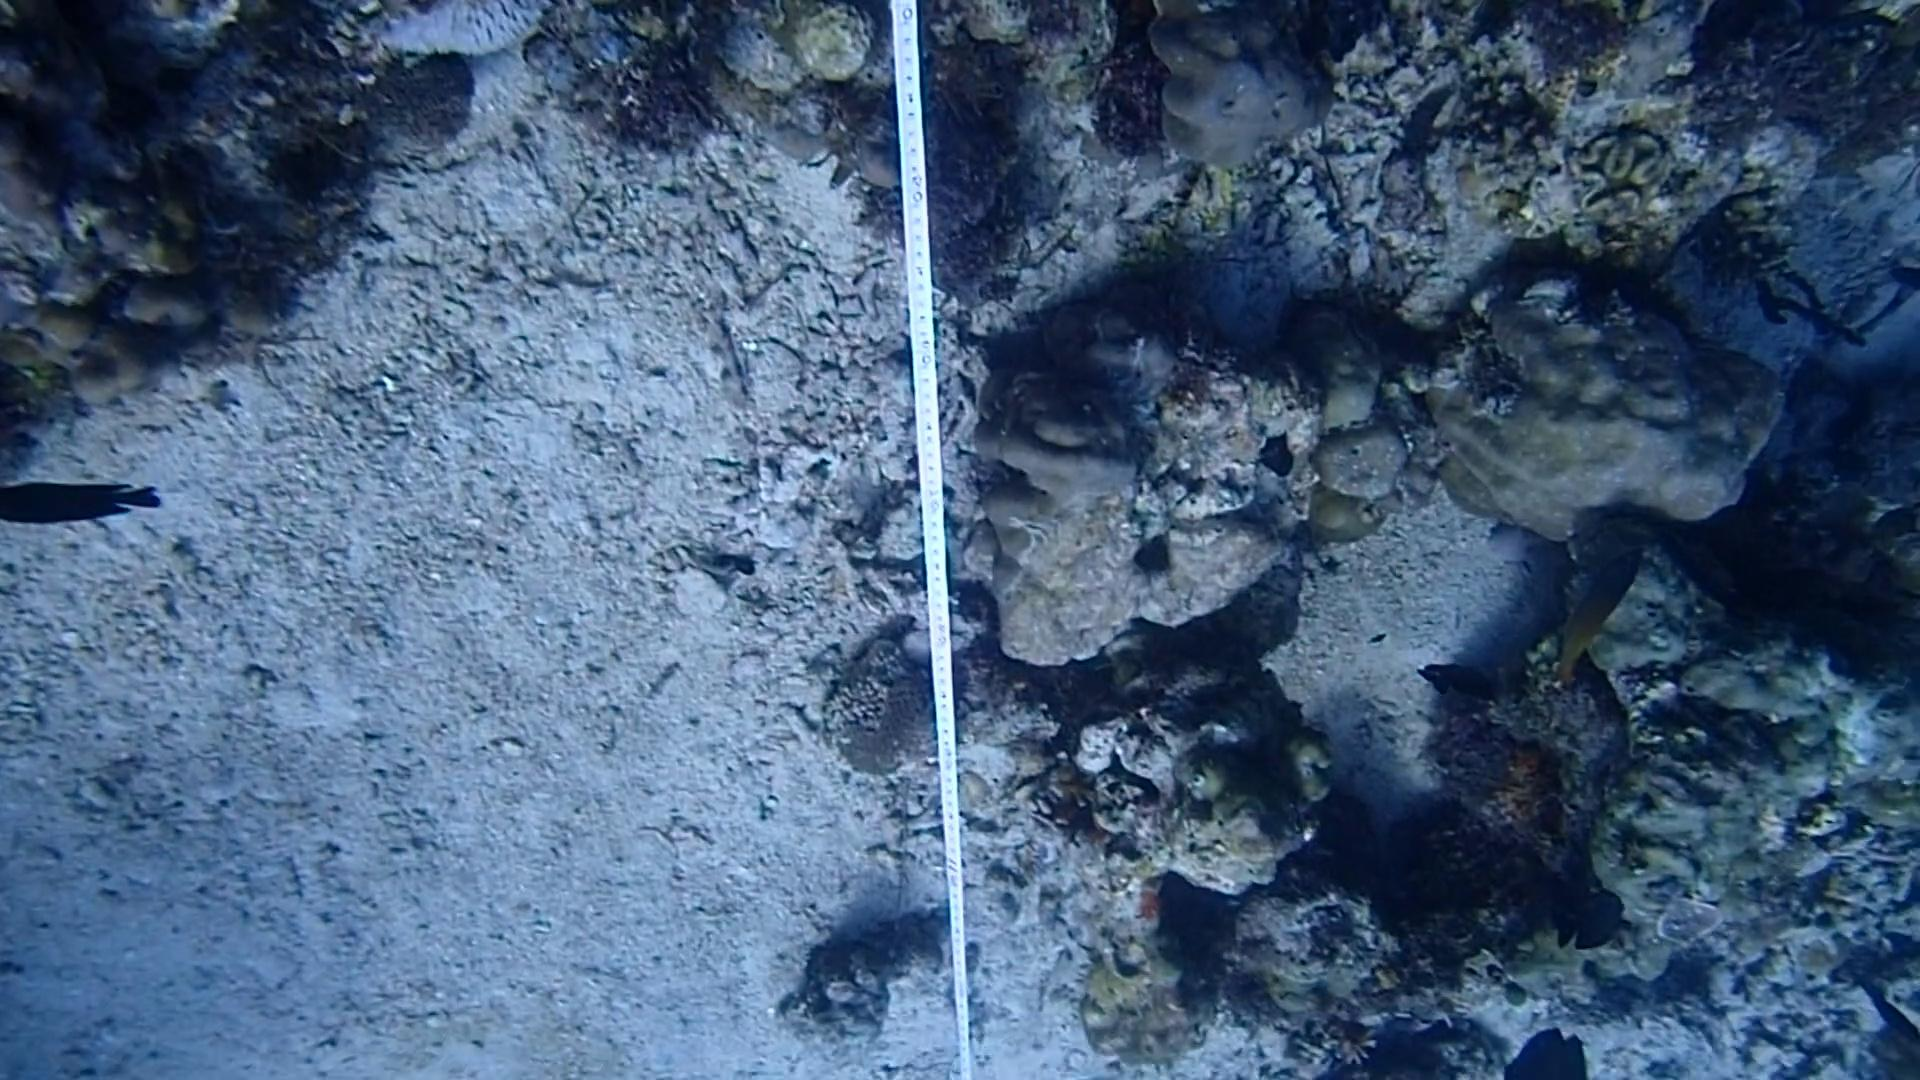Dark Fish: (0, 465, 166, 542), (1552, 870, 1640, 960), (1404, 645, 1509, 715)
Half Blue - Half Yellow: (1559, 539, 1646, 690)
